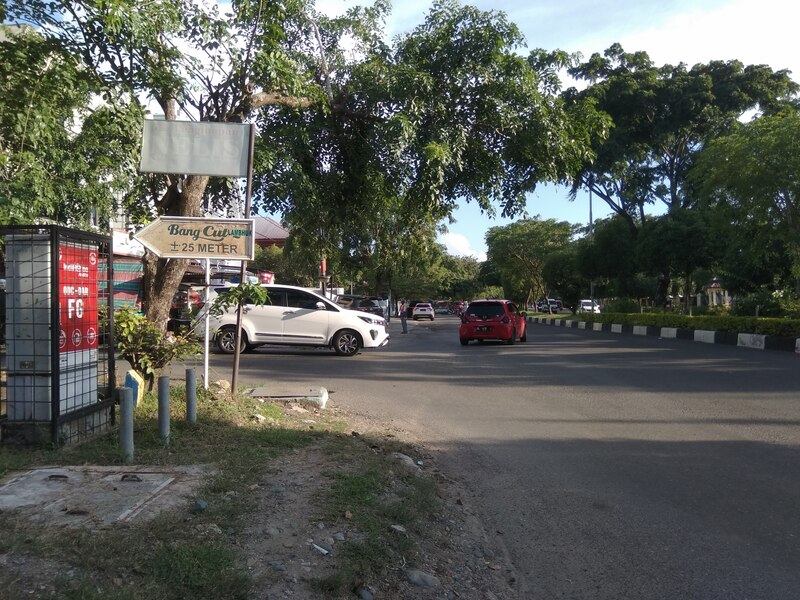car: (191, 281, 393, 358), (456, 298, 525, 348)
